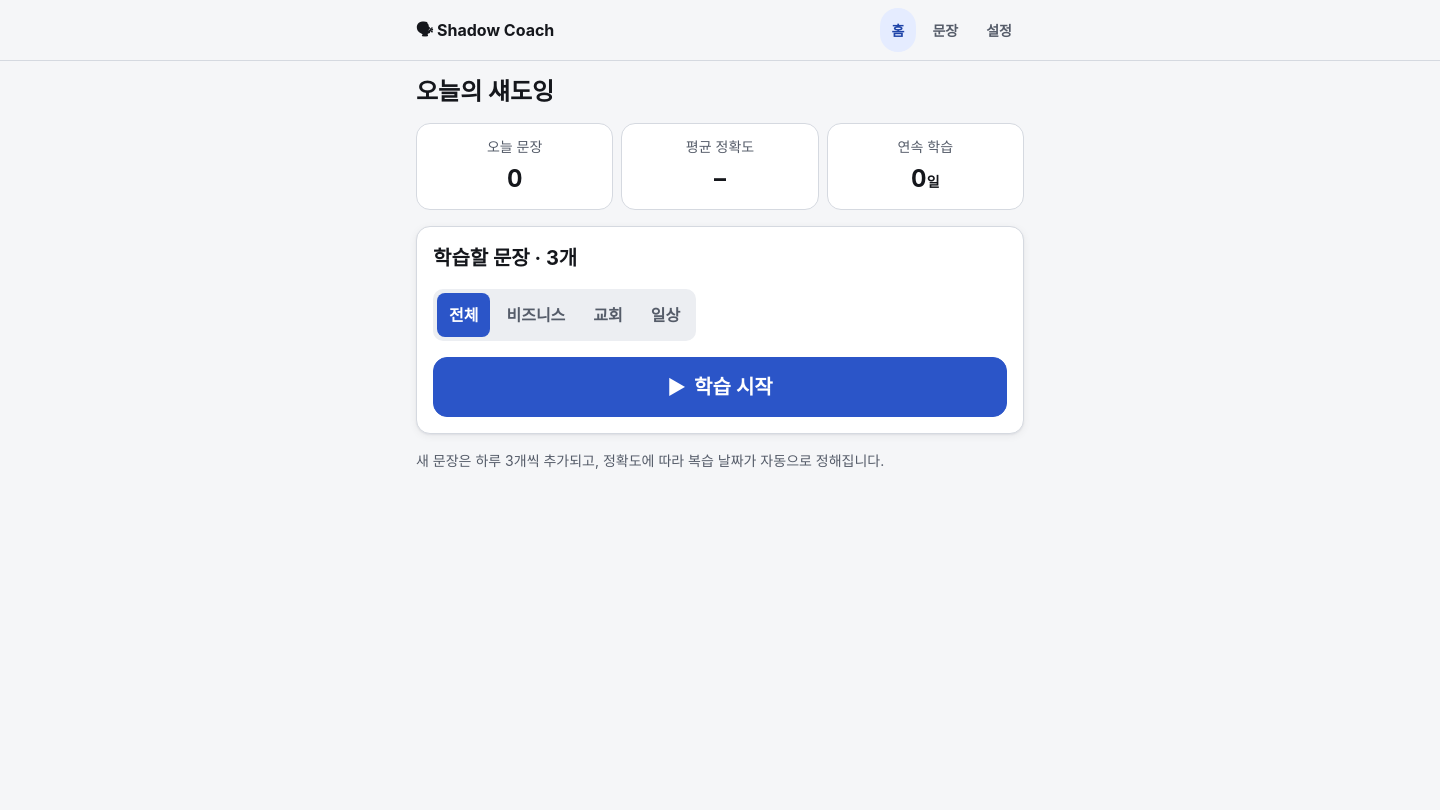
Test: App › finishes a session and shows the summary
Click the button "▶ 학습 시작": (720, 387) [433, 357, 1007, 417]
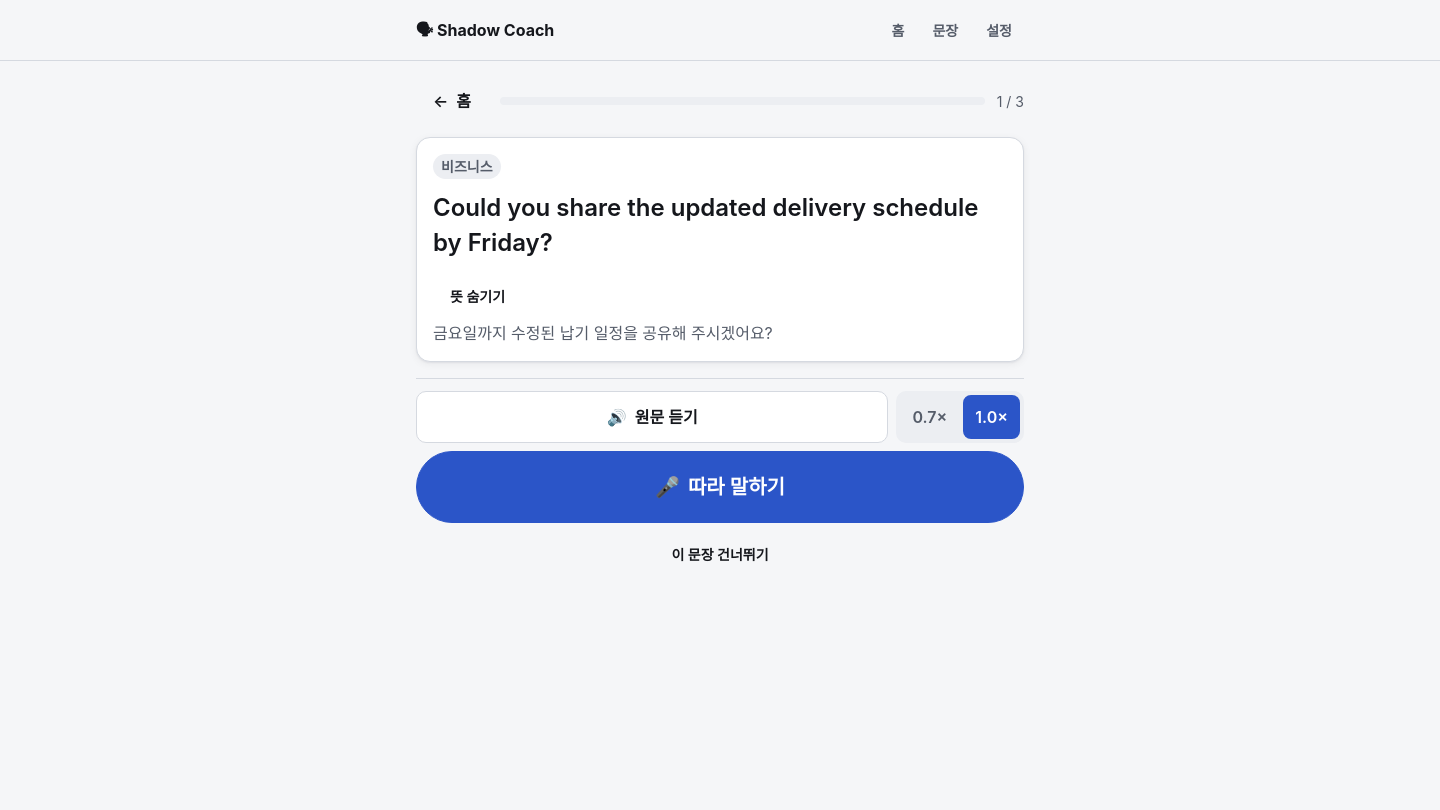
Click the button "이 문장 건너뛰기": (720, 555) [416, 531, 1024, 579]
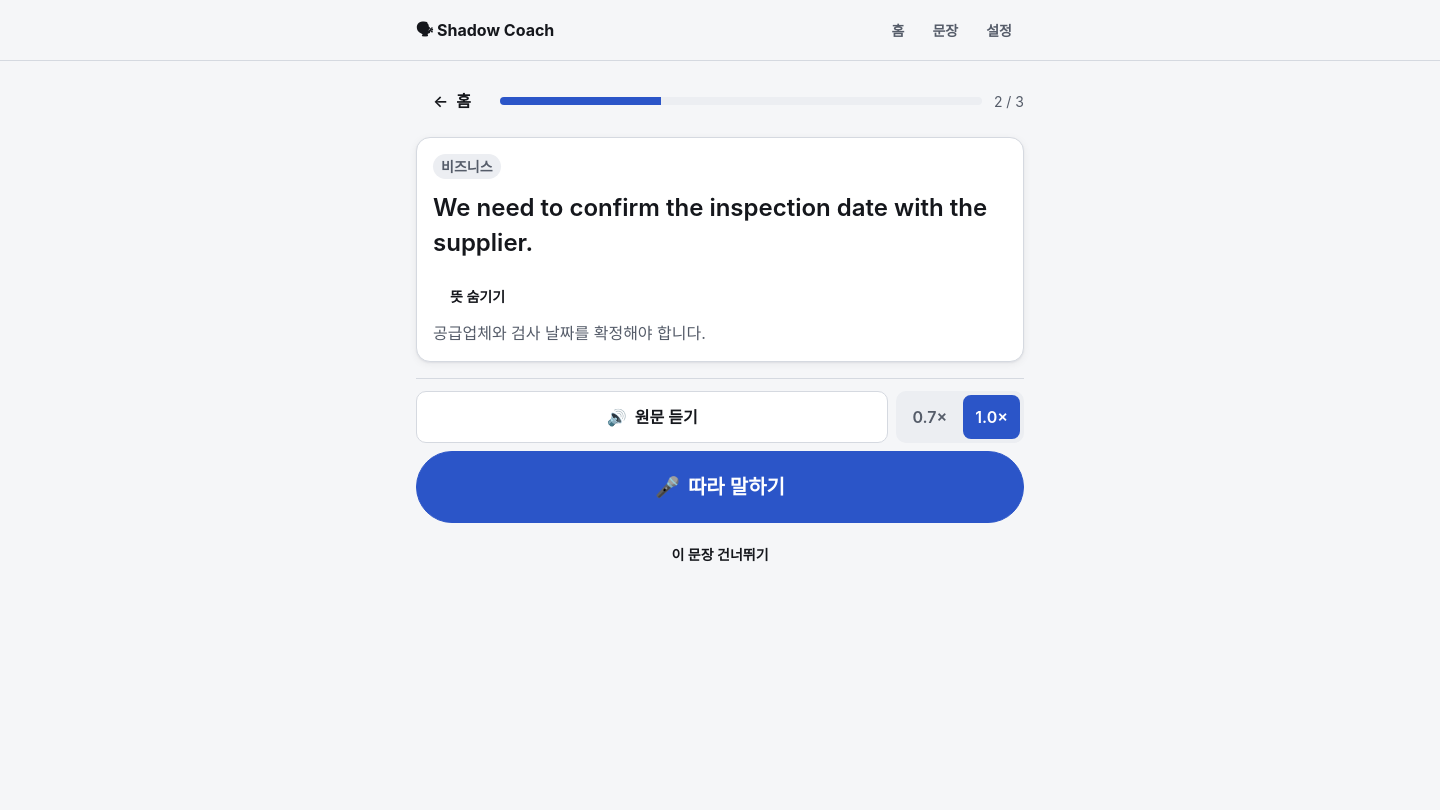
Click the button "이 문장 건너뛰기": (720, 555) [416, 531, 1024, 579]
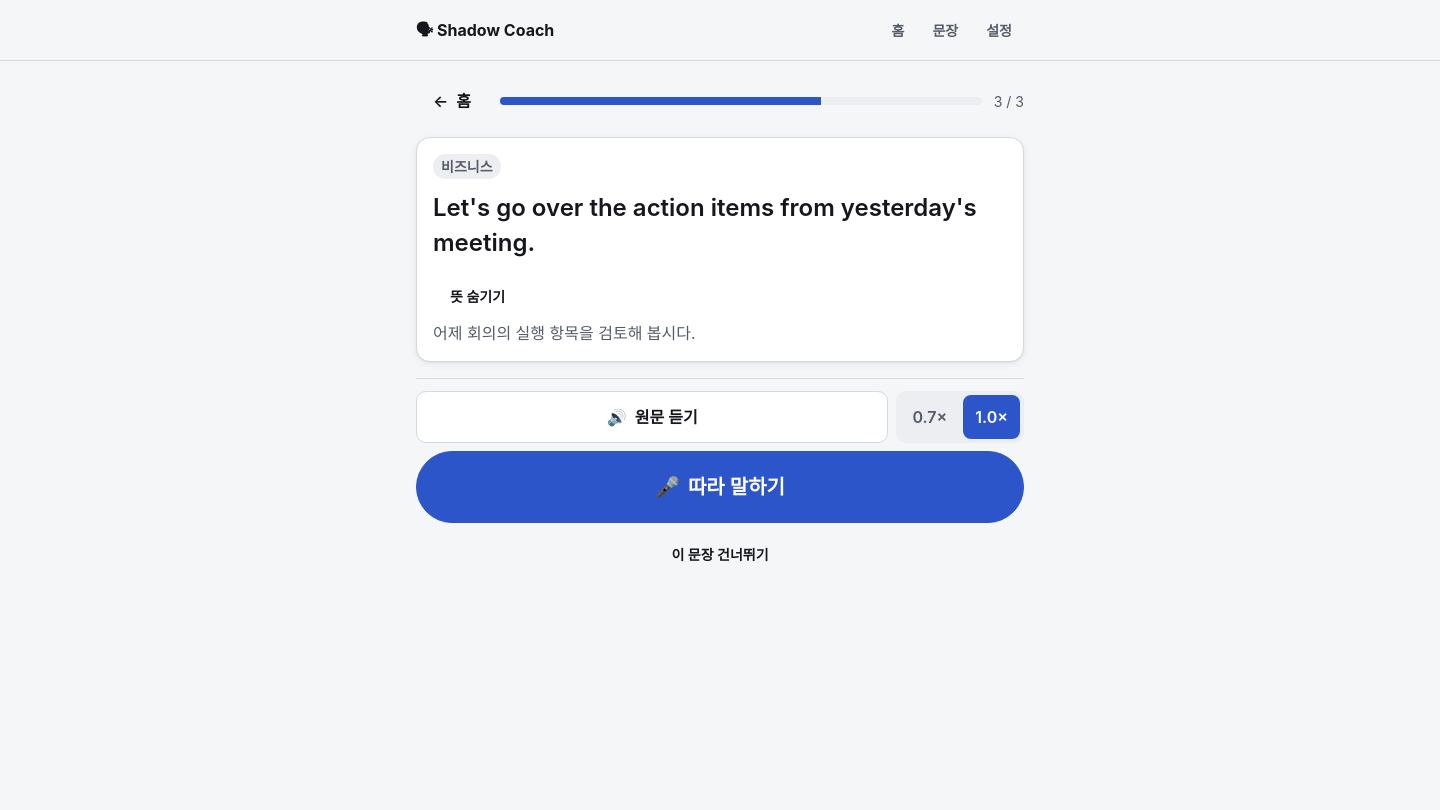
Click the button "이 문장 건너뛰기": (720, 555) [416, 531, 1024, 579]
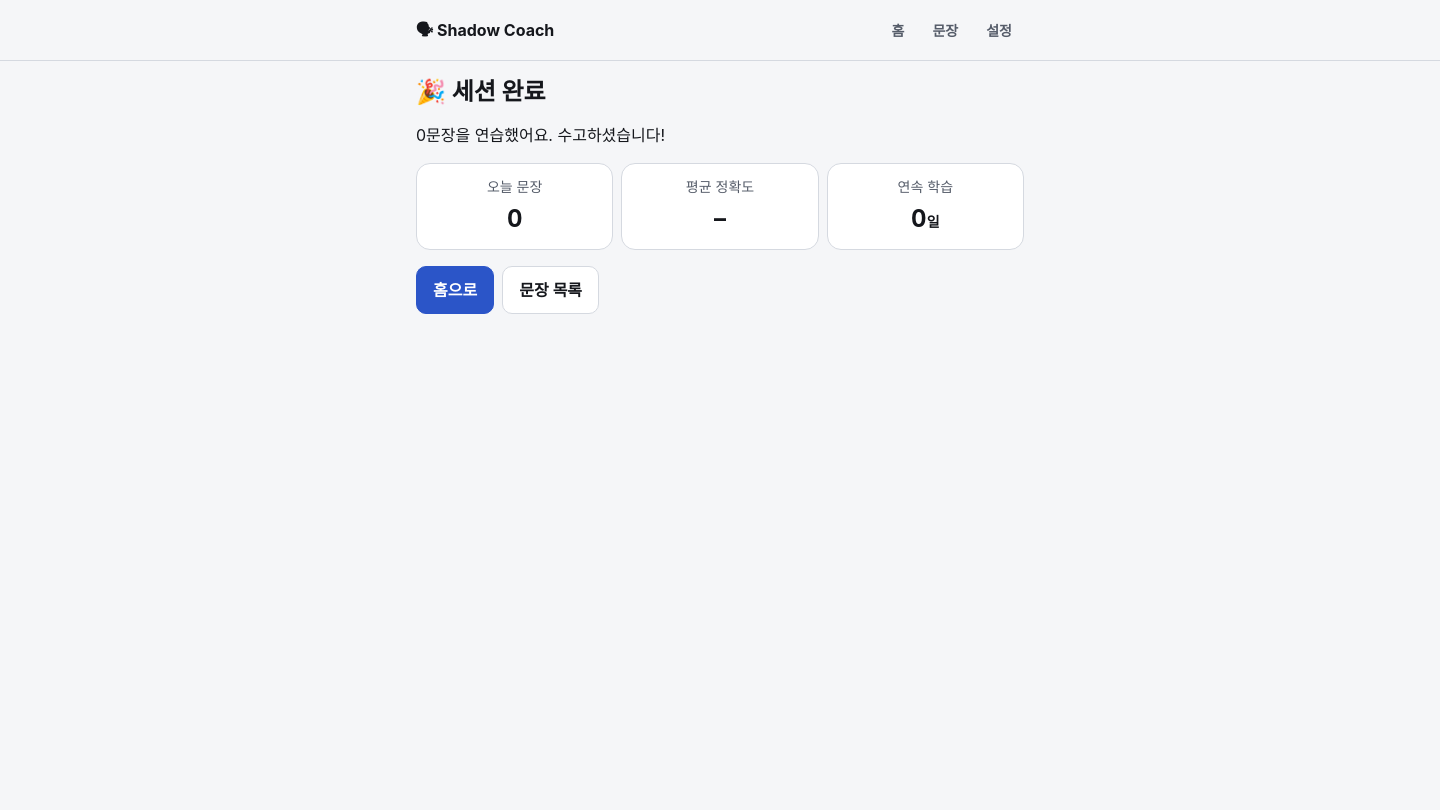
Expected: the heading "🎉 세션 완료" is shown, [416, 77, 546, 106]
Click the button "홈으로": (455, 290) [416, 266, 494, 314]
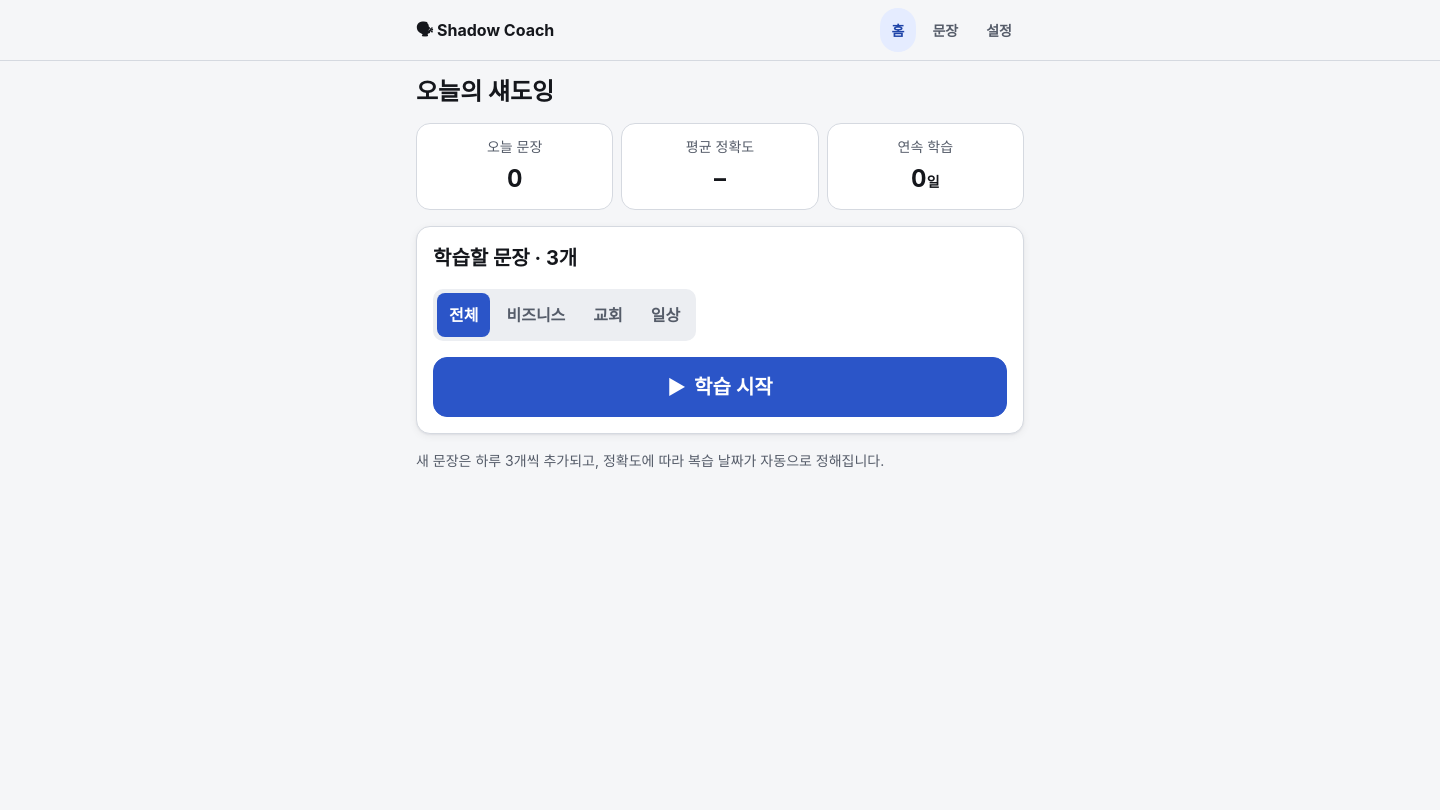
Expected: the heading "오늘의 섀도잉" is shown, [416, 77, 554, 106]
